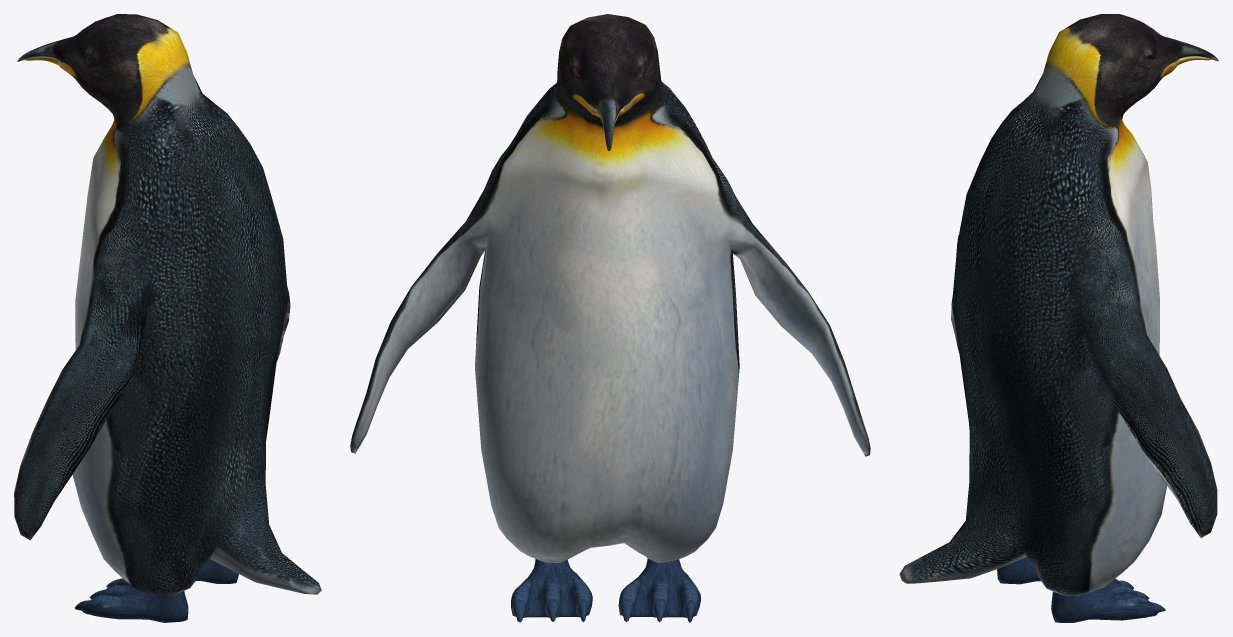
3 renders of one model, left to right at view 1: azimuth 30°, elevation 25°; view 2: azimuth 150°, elevation 25°; view 3: azimuth 270°, elevation 25°, orthographic. The views are drawn at different scales.
Visible parts, largest first — view 1: penguin.007_penguin.008; view 2: penguin.007_penguin.008; view 3: penguin.007_penguin.008.
Boxes of the visible parts, x1,y1,x2,y2 form: penguin.007_penguin.008: (14, 14, 321, 622); penguin.007_penguin.008: (350, 14, 870, 622); penguin.007_penguin.008: (899, 14, 1218, 622).
Size of the model in its own units: 15.39 by 22.22 by 11.34.
